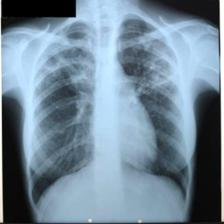tuberculosis: (22, 13, 195, 224)
